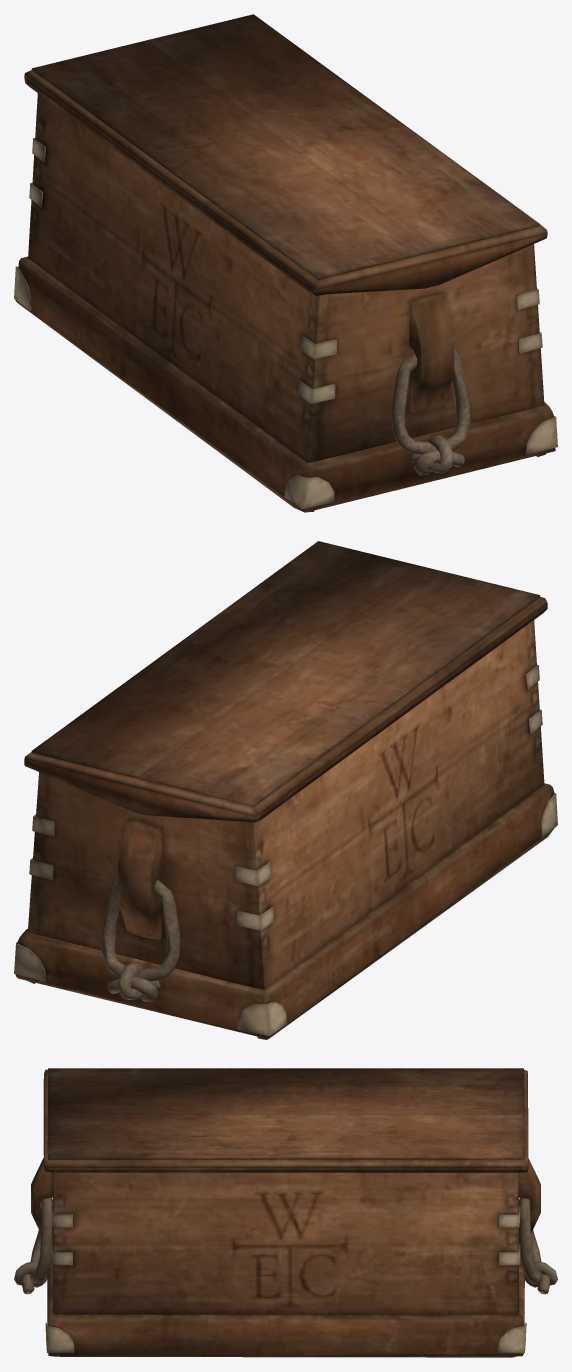
Rendered from wooden_crate_02.glb.
The picture shows the model from 3 angles, top to bottom: view 1: azimuth 30°, elevation 25°; view 2: azimuth 150°, elevation 25°; view 3: azimuth 270°, elevation 25°; orthographic projection. The views are drawn at different scales.
Parts seen in each view (by area): view 1: wooden_crate_02_crate; view 2: wooden_crate_02_crate; view 3: wooden_crate_02_crate.
Boxes of the visible parts, bbox=[...] form: wooden_crate_02_crate: bbox=[14, 14, 557, 512]; wooden_crate_02_crate: bbox=[14, 541, 557, 1039]; wooden_crate_02_crate: bbox=[14, 1068, 557, 1357].
Bounding box in the file's own units: 0.5291 × 0.4639 × 1.17.
Materials: 1 (1 with a texture image).
